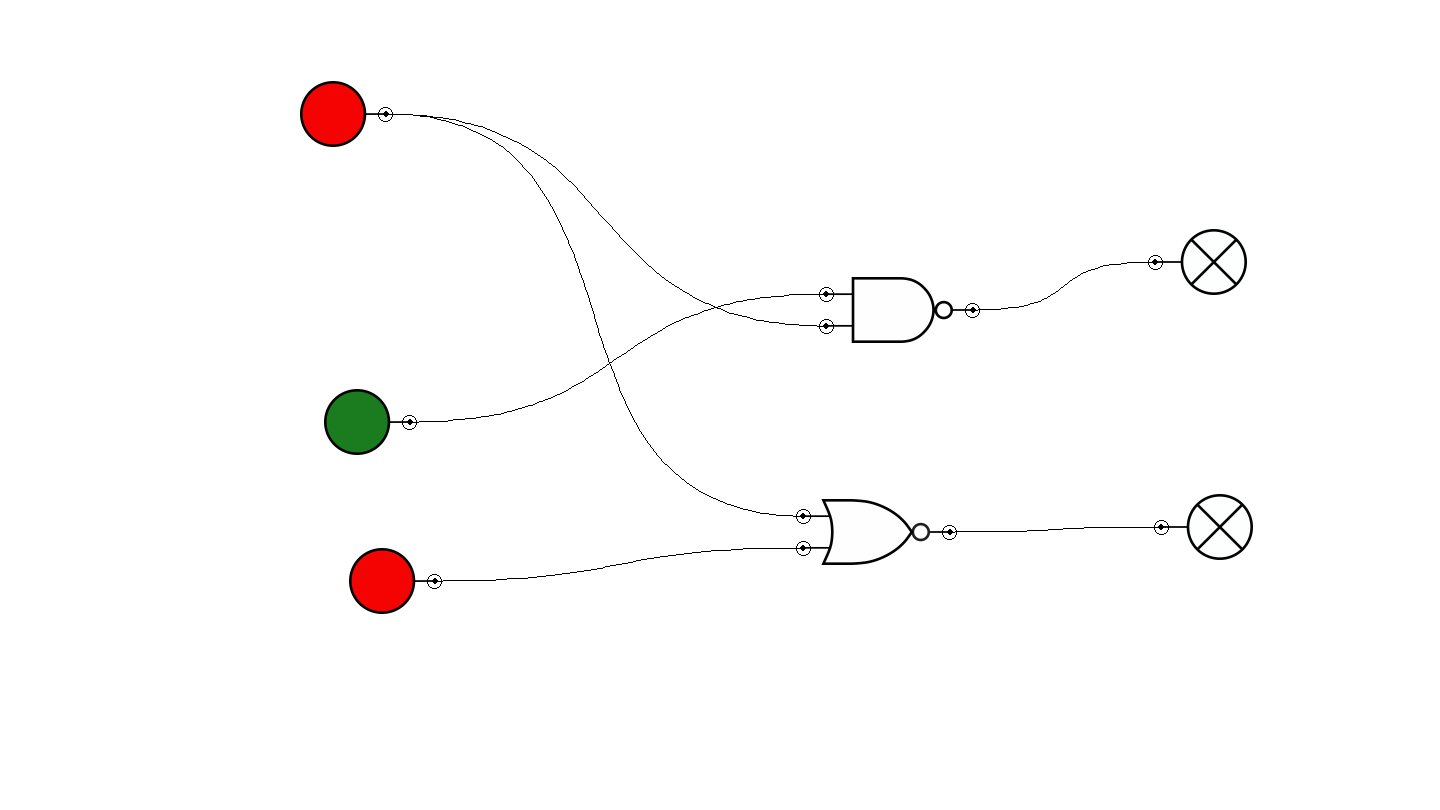bulb: (1154, 494, 1253, 560), (1148, 229, 1247, 295)
nand: (819, 277, 980, 343)
nor: (796, 499, 957, 565)
switch_False: (300, 81, 393, 147), (349, 548, 442, 614)
switch_True: (324, 389, 417, 455)
